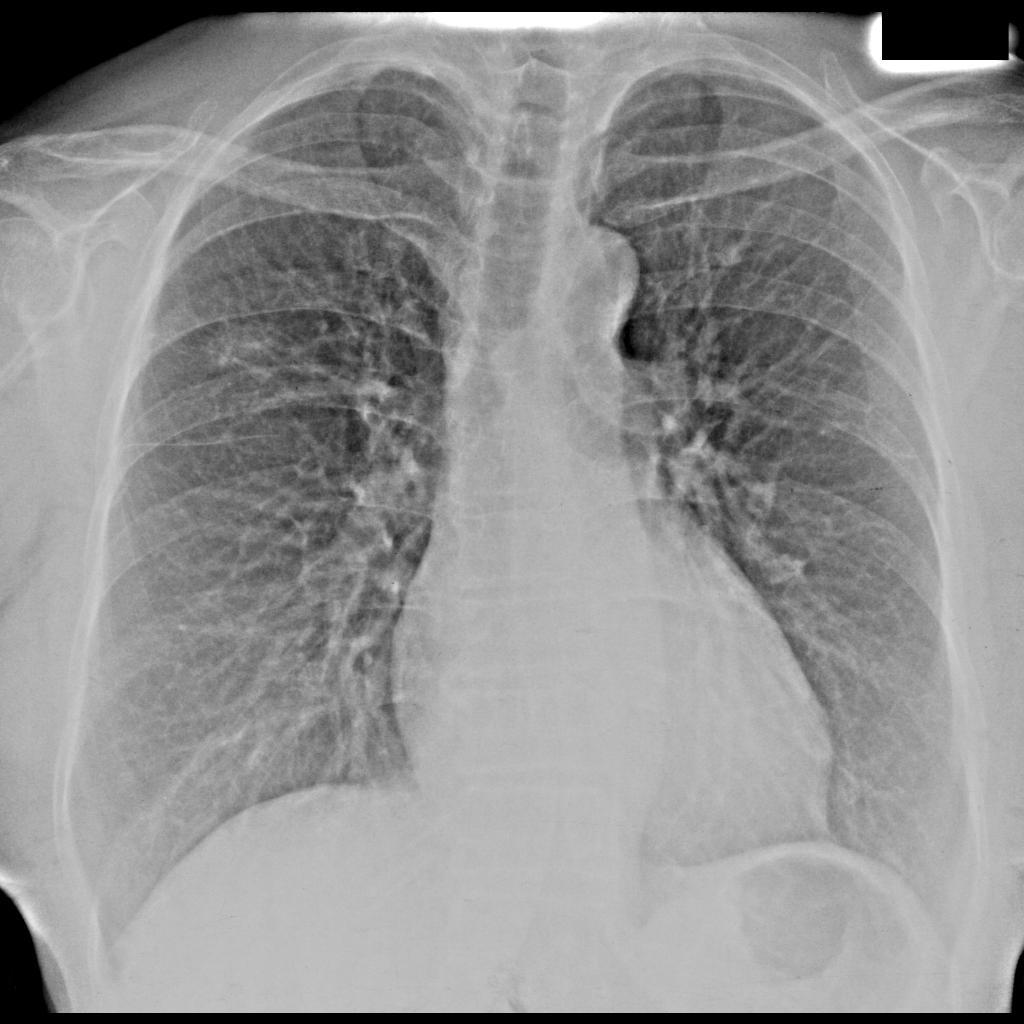Nodule: (215, 316, 286, 387)
